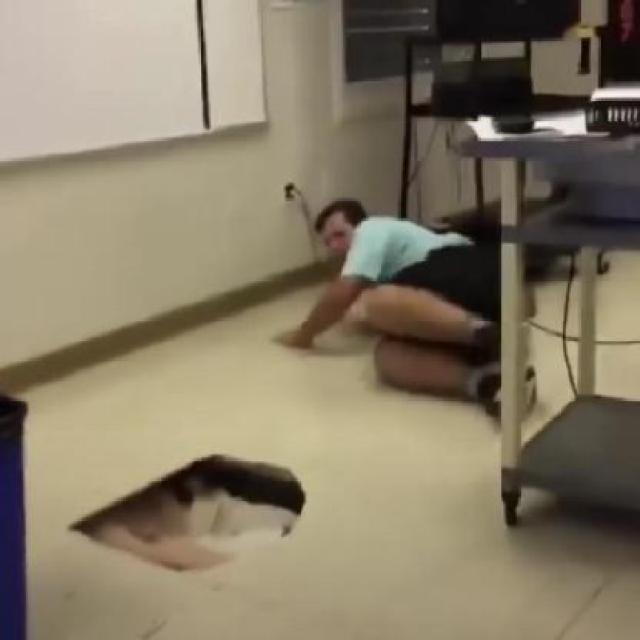fall: (269, 191, 523, 403)
